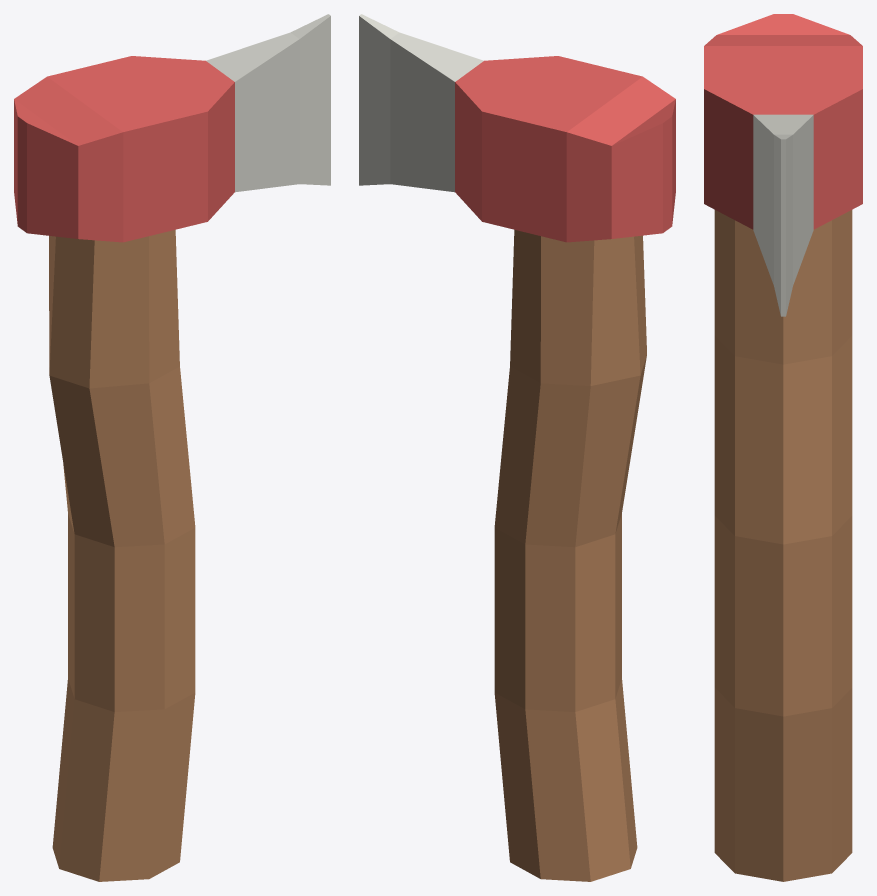
File: Wooden Axe.fbx
3 renders of one model, left to right at view 1: azimuth 30°, elevation 25°; view 2: azimuth 150°, elevation 25°; view 3: azimuth 270°, elevation 25°, orthographic. The views are drawn at different scales.
Parts seen in each view (by area): view 1: Axe; view 2: Axe; view 3: Axe.
Boxes of the visible parts, left/top/right/bottom form: Axe: left=14, top=14, right=330, bottom=881; Axe: left=359, top=14, right=675, bottom=881; Axe: left=704, top=14, right=862, bottom=881.
Bounding box in the file's own units: 519 × 1273 × 223.
